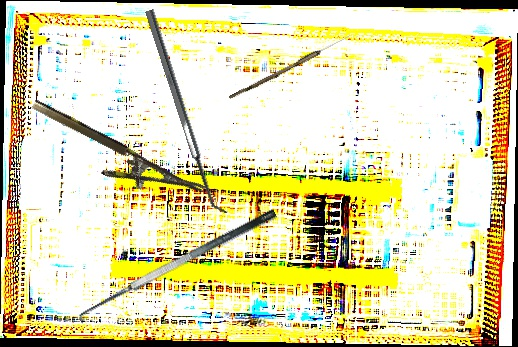Needle Holder: (19, 97, 206, 220)
Spatula Surgical: (72, 206, 286, 333), (145, 6, 228, 218)
Surgical Spoon: (228, 32, 352, 102)
